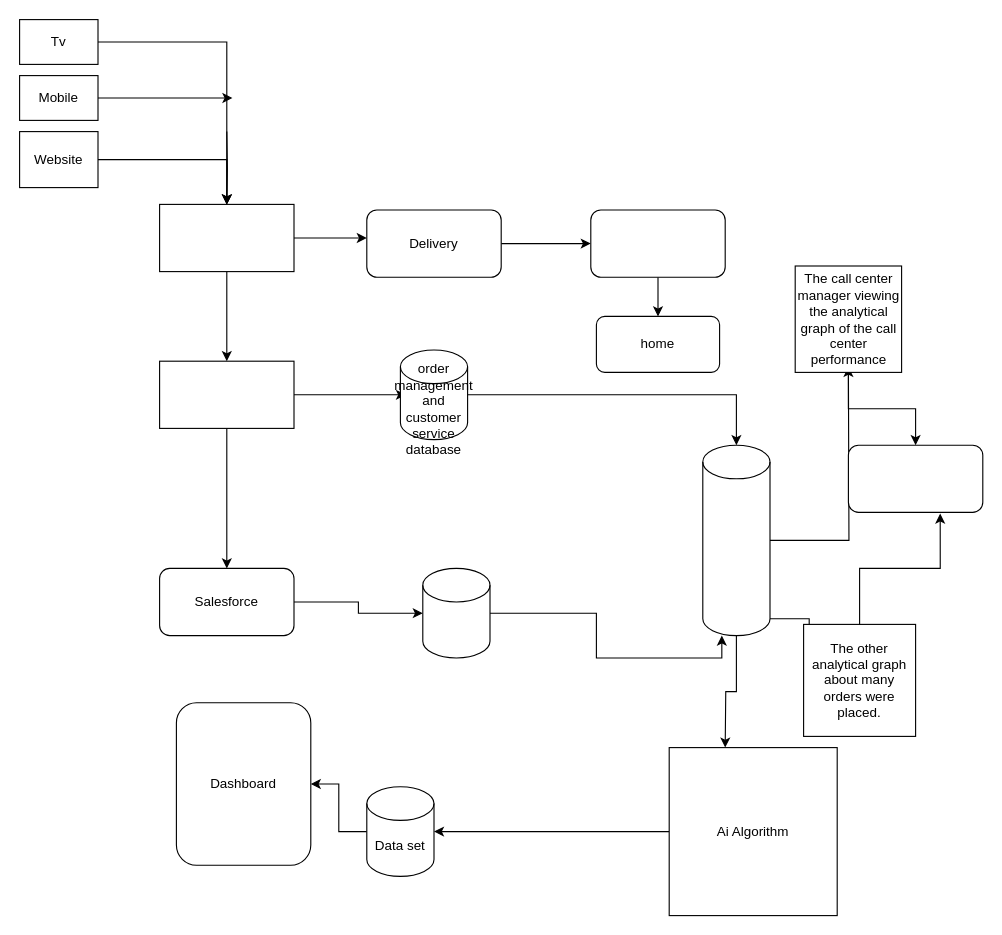
This 1002x935 diagram has some shape labels left out. Each missing label, with the box of its shape:
Business Manager: (847, 444, 983, 512)
Call Center: (158, 203, 294, 272)
Case management system: (422, 567, 490, 658)
Data Lake: (702, 444, 770, 636)
Phone numbers - get analytical dashboard with customer information: (158, 360, 294, 428)
Ups: (590, 209, 725, 277)
